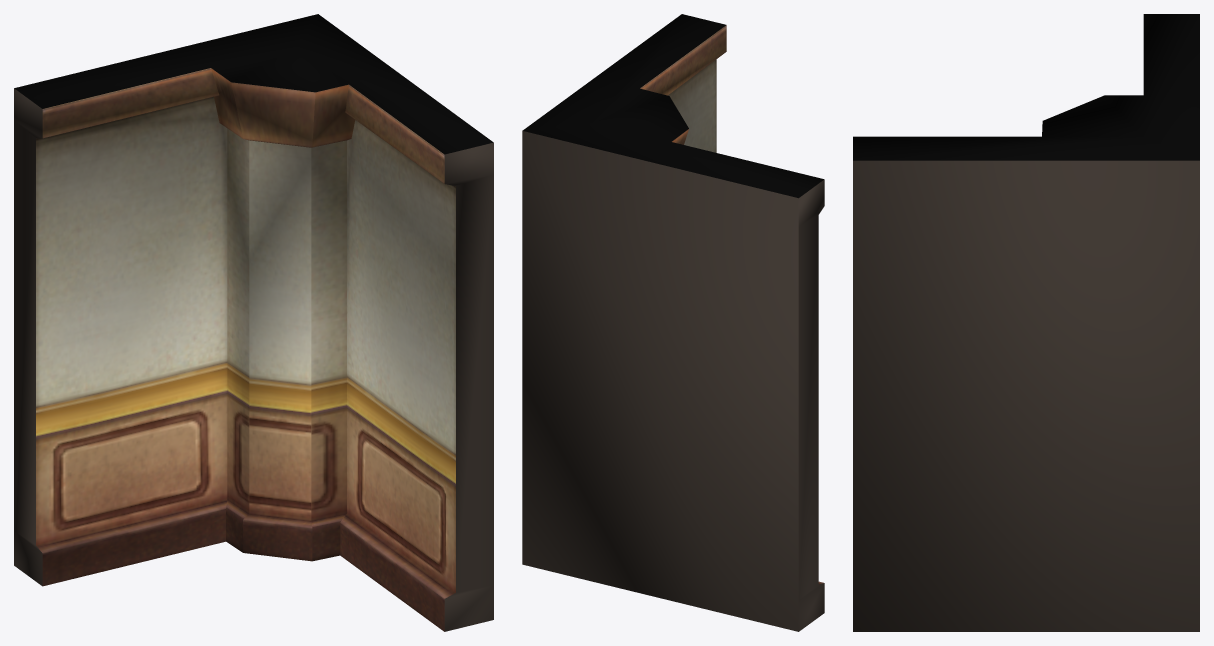
Rendered from a_SCwall04A.glb.
The picture shows the model from 3 angles, left to right: view 1: azimuth 30°, elevation 25°; view 2: azimuth 150°, elevation 25°; view 3: azimuth 270°, elevation 25°; orthographic projection. The views are drawn at different scales.
Parts seen in each view (by area): view 1: a_SCwall04A; view 2: a_SCwall04A; view 3: a_SCwall04A.
Boxes of the visible parts, box(x1,y1,x2,y2) form: a_SCwall04A: box(14, 14, 493, 631); a_SCwall04A: box(522, 14, 824, 631); a_SCwall04A: box(853, 14, 1199, 631).
Size of the model in its own units: 2 by 3 by 2.
1 material, 1 textured.
